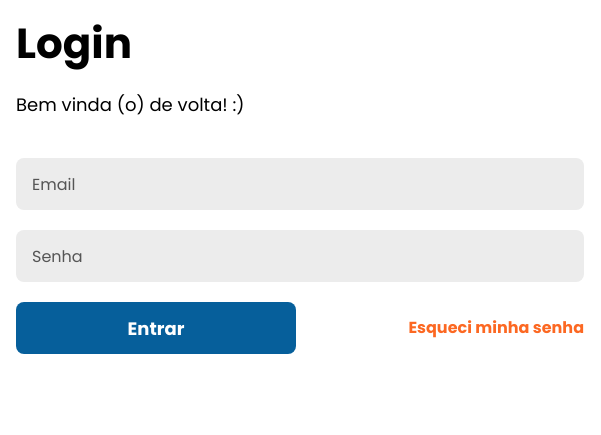
Página de Login › deve mostrar erro de validação quando os campos estiverem vazios
The width and height of the screenshot is (601, 435).
Click the button "Entrar": (156,328) [16, 302, 296, 354]
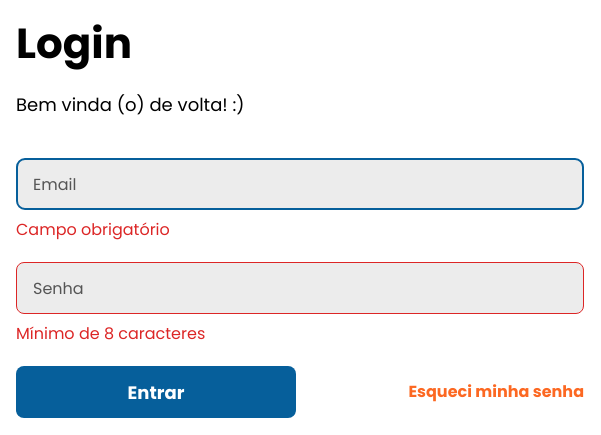
Result: the text "Campo obrigatório" is shown at [16, 218, 170, 241]
